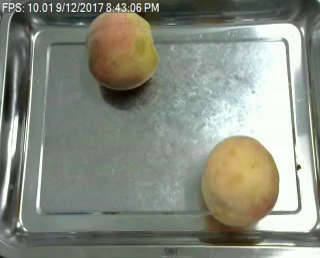Peach: (201, 135, 280, 229), (85, 7, 159, 90)
